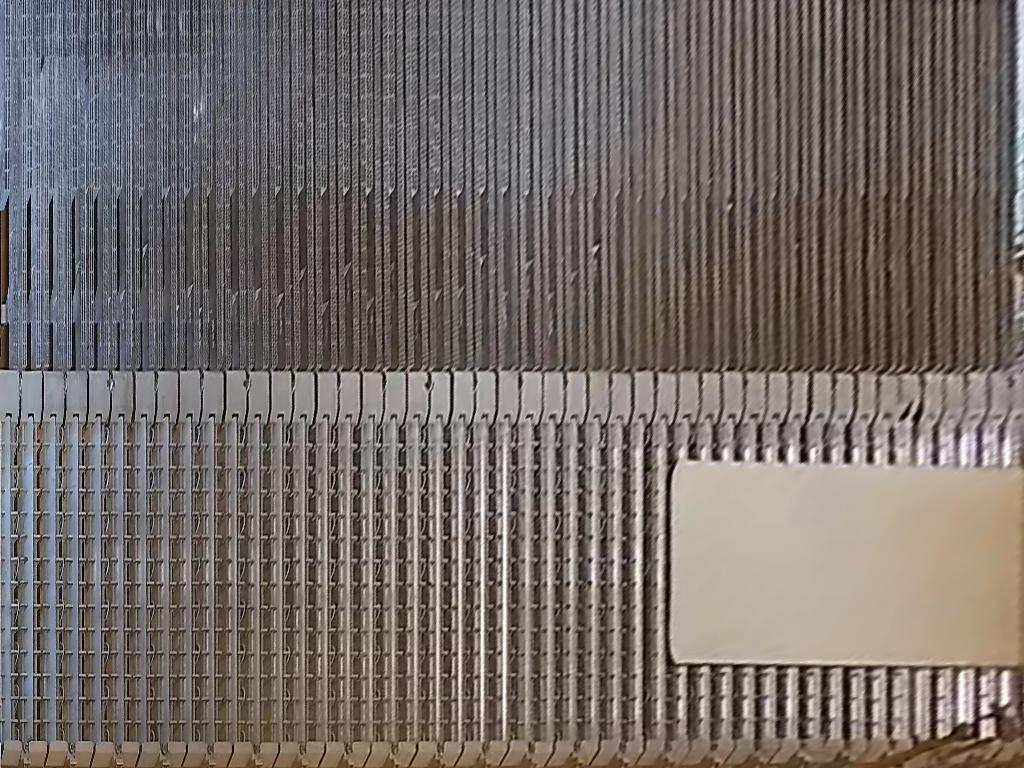steel: (670, 459, 1024, 666)
